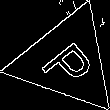P_NE: (34, 30, 99, 91)
